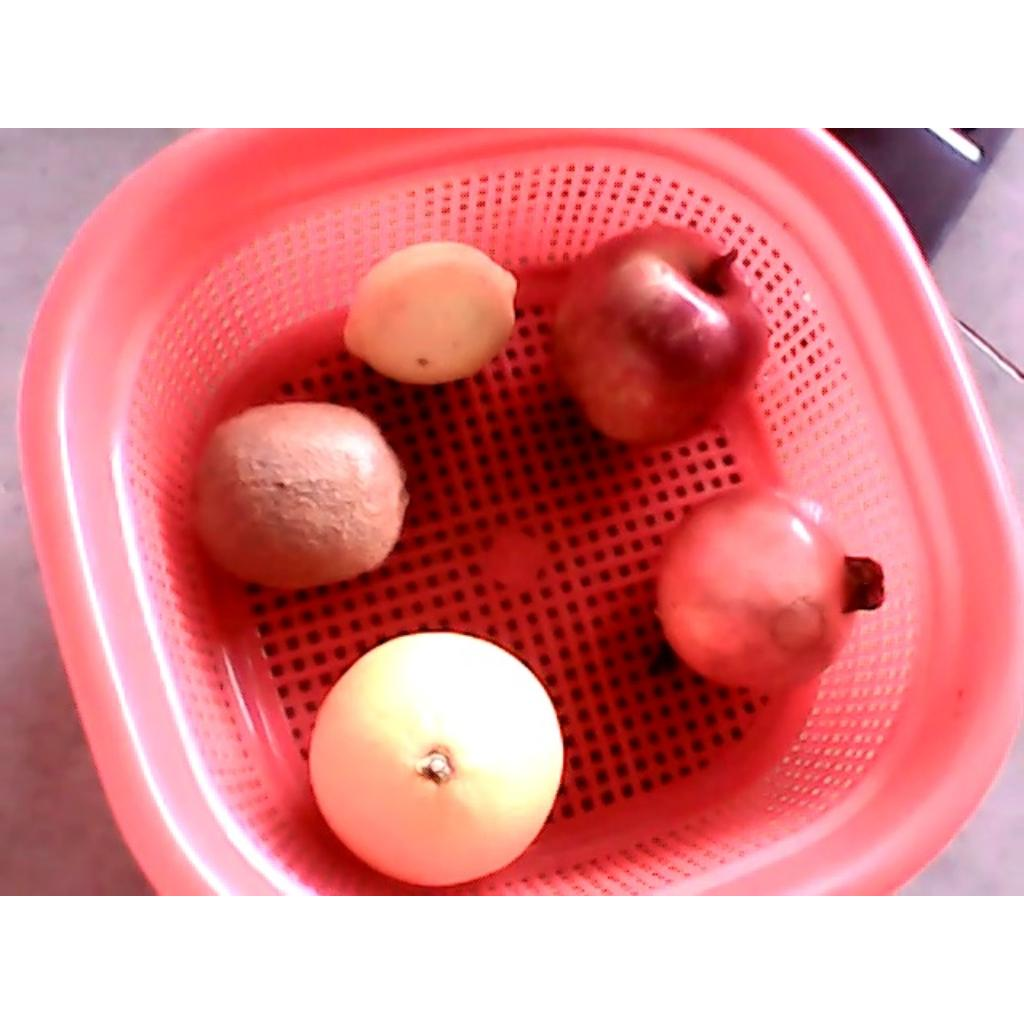apple: (552, 223, 770, 448)
kiwi: (196, 403, 405, 591)
lemon: (343, 241, 517, 385)
orange: (307, 631, 565, 888)
pomegranate: (654, 483, 886, 695)
